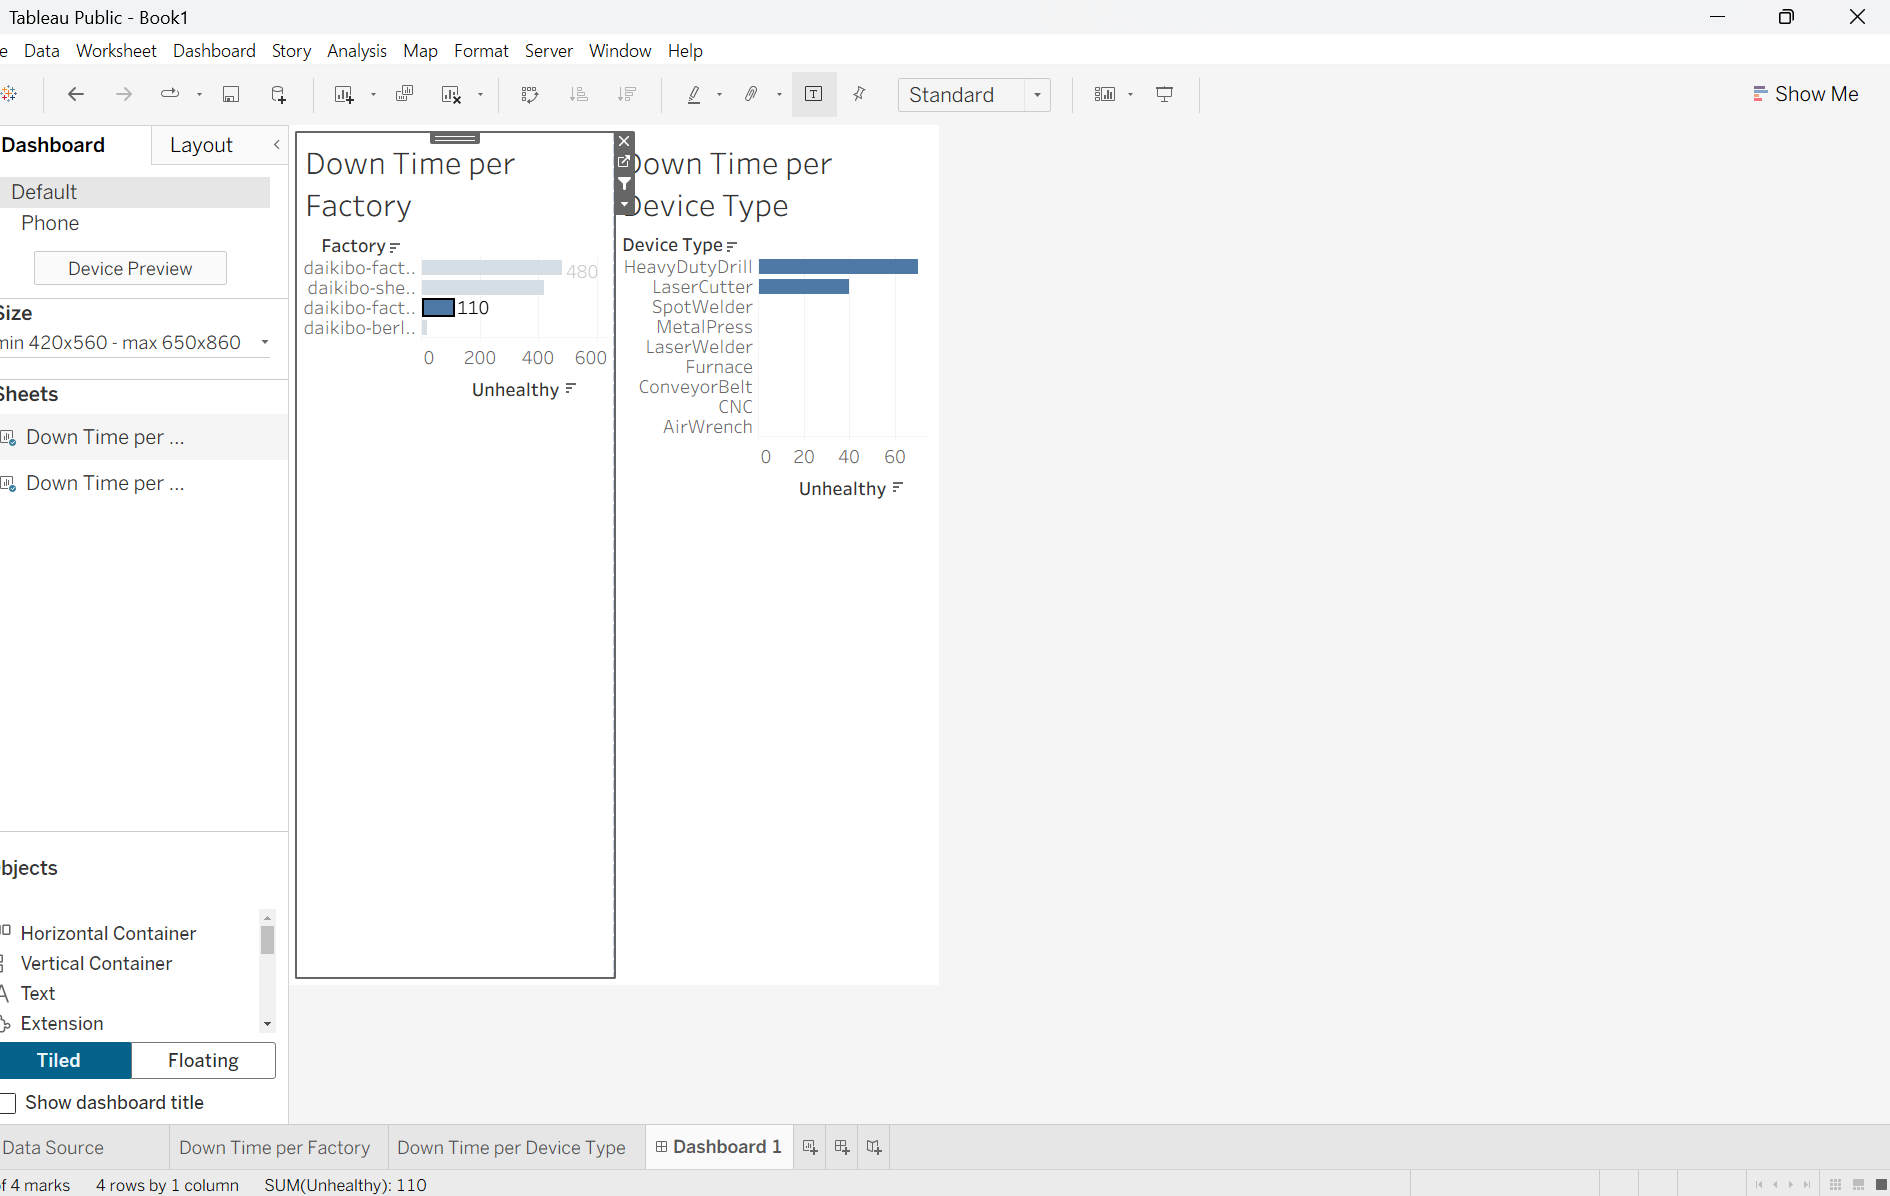

The dashboard page shown, as its layout file describes it:
{"tool":"tableau","page":{"name":"Dashboard 1","canvas":[650,860],"ordinal":0},"visuals":[{"type":"worksheet","title":"Down Time per Factory","mark":"Automatic","rows":["factory"],"cols":["Calculation_0389005075222528"],"box":[8,8,317,844]},{"type":"worksheet","title":"Down Time per Device Type","mark":"Bar","rows":["deviceType"],"cols":["Calculation_0389005075222528"],"box":[325,8,317,844]}]}

Visuals, with their boxes on the page's 650x860 design canvas (x1, y1, x2, y2). These are canvas units, not pixel positions in the 1890x1196 screenshot, which may show the page scaled, cropped or inside an application window:
"Down Time per Factory" worksheet: box(8, 8, 325, 852)
"Down Time per Device Type" worksheet (Bar marks): box(325, 8, 642, 852)
